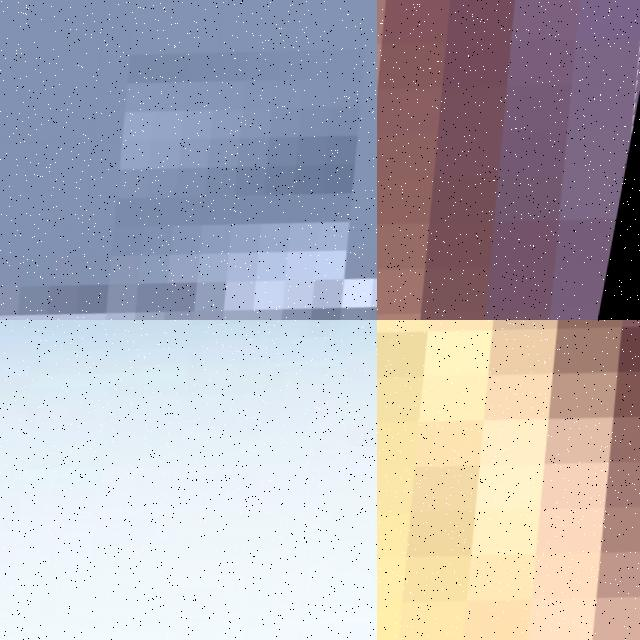drone: (0, 0, 377, 320), (0, 320, 377, 640), (377, 0, 640, 320), (377, 320, 640, 640)
